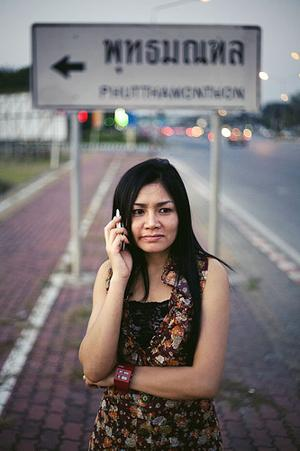person: (78, 158, 231, 451)
